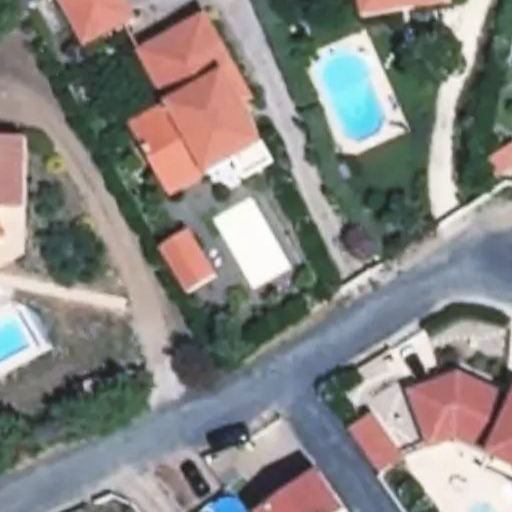pool: (215, 214, 296, 269)
